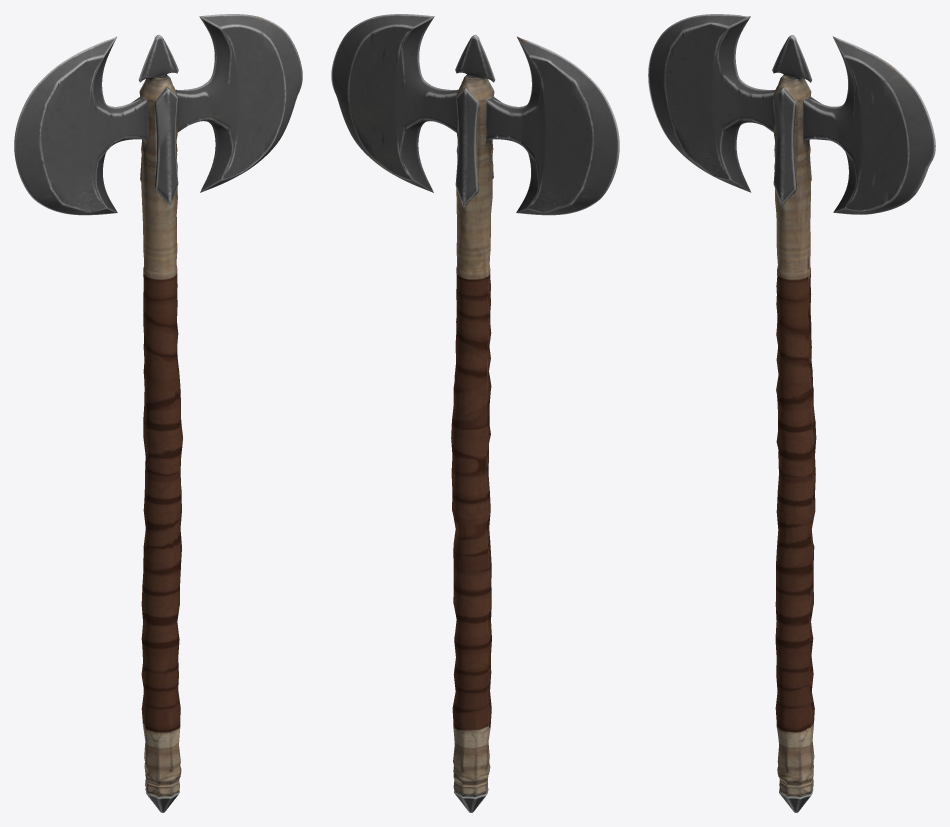
File: AXEV2.fbx
The picture shows the model from 3 angles, left to right: view 1: azimuth 30°, elevation 25°; view 2: azimuth 150°, elevation 25°; view 3: azimuth 330°, elevation 25°; orthographic projection.
Visible parts, largest first — view 1: pCube1_Mesh; view 2: pCube1_Mesh; view 3: pCube1_Mesh.
Boxes of the visible parts, bbox=[...] form: pCube1_Mesh: bbox=[14, 14, 302, 812]; pCube1_Mesh: bbox=[331, 14, 619, 812]; pCube1_Mesh: bbox=[648, 14, 935, 812].
Size of the model in its own units: 1.53 by 3.97 by 0.209.
